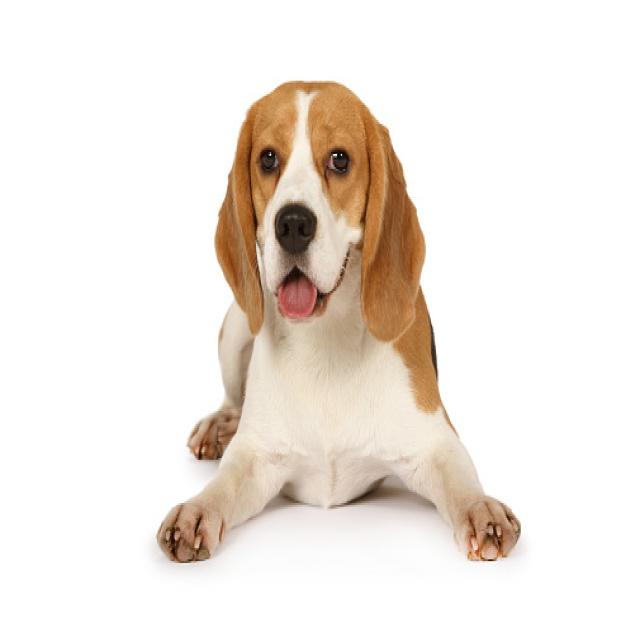beagle: (202, 64, 437, 362)
